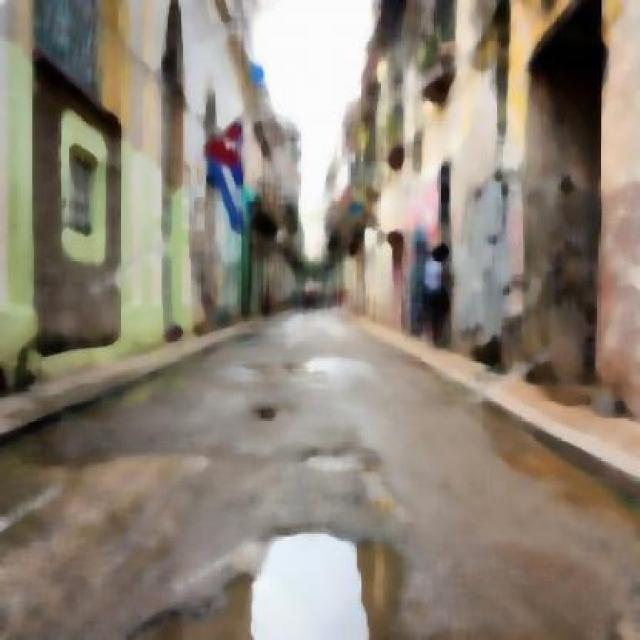Pothole: (177, 506, 417, 639)
